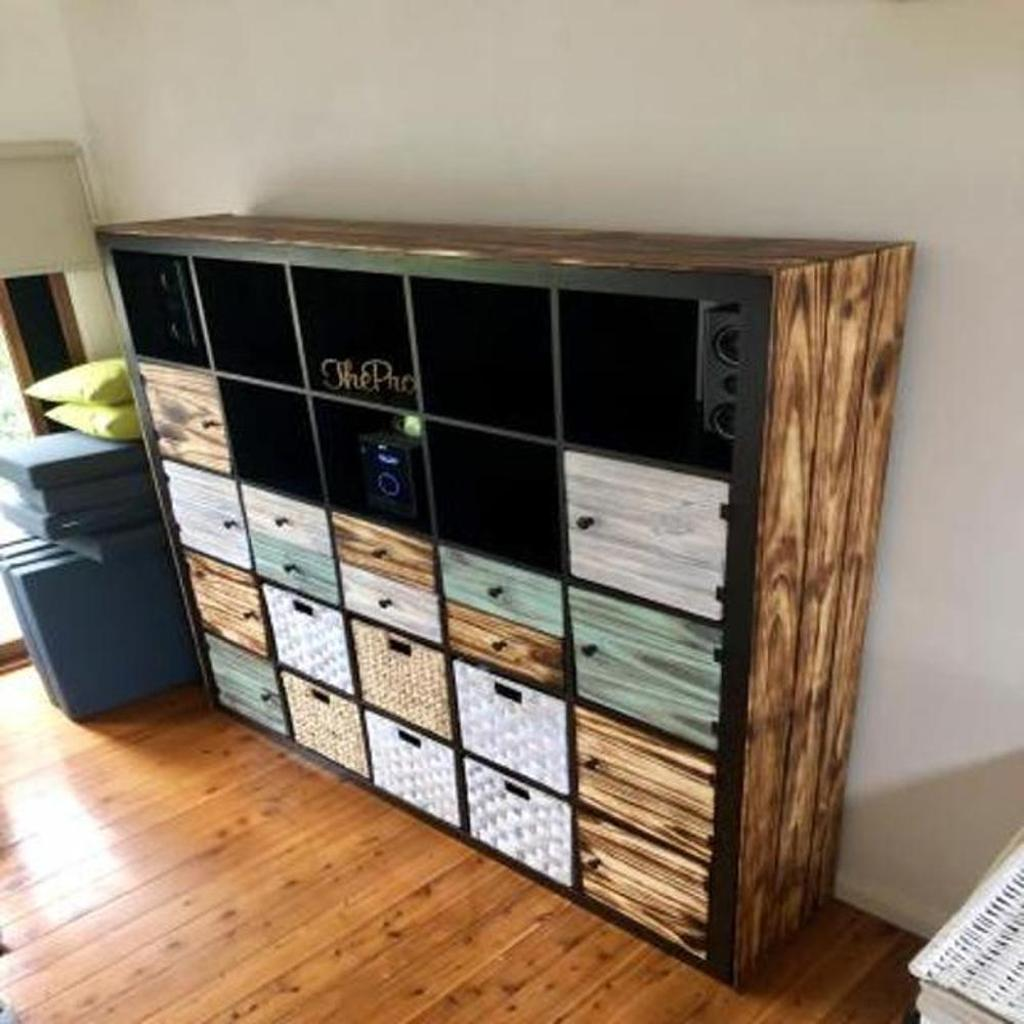lamp: (95, 209, 926, 998)
